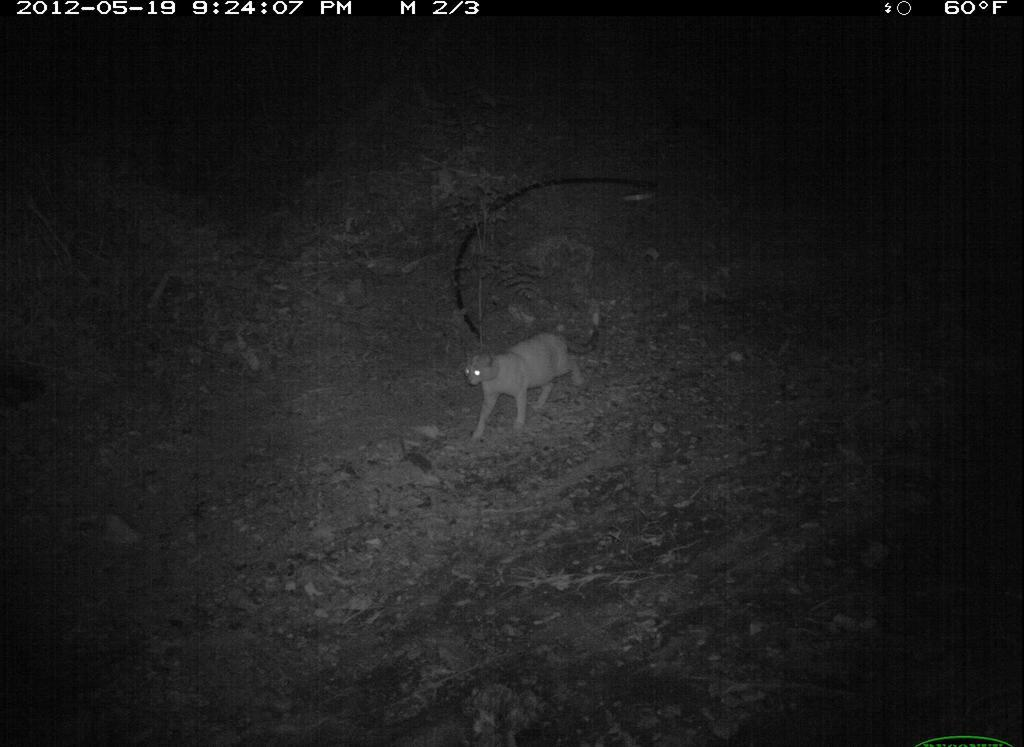cat: (441, 315, 639, 450)
